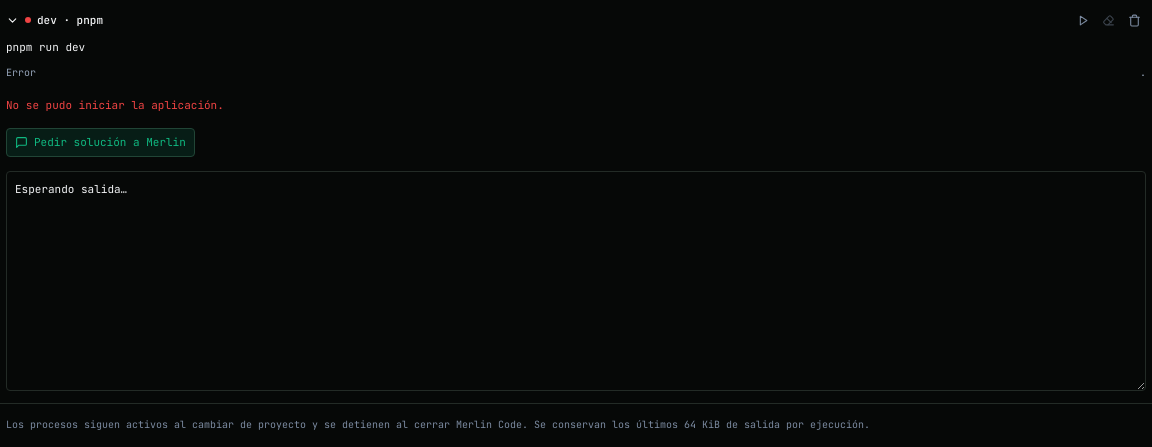
Test case: application execution controls › can request diagnosis without logs and reports failures to send without removing the execution
Click the button "Pedir solución a Merlin" at (100, 143), box [6, 128, 195, 157]
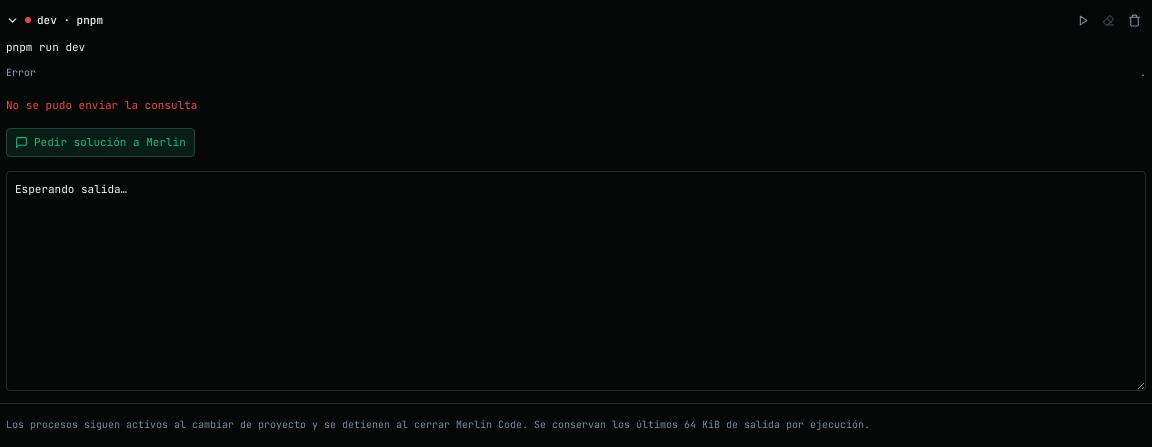
Expected: the message "No se pudo enviar la consulta" is shown, [6, 98, 197, 112]
